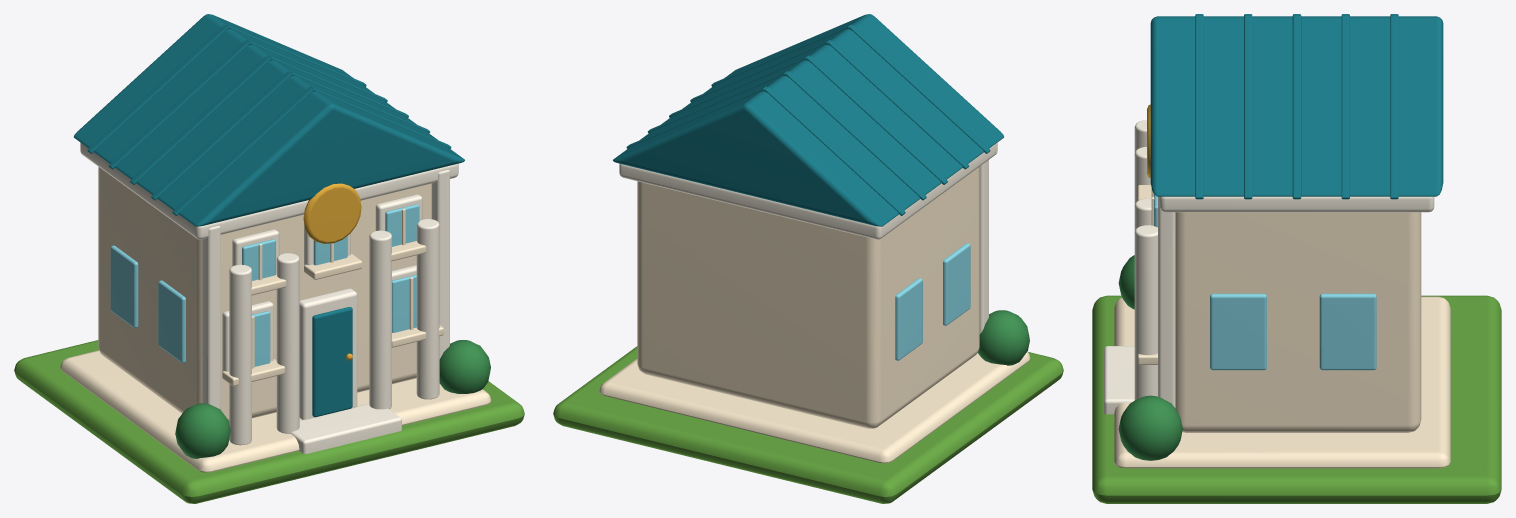
File: bank.fbx
3 renders of one model, left to right at view 1: azimuth 30°, elevation 25°; view 2: azimuth 150°, elevation 25°; view 3: azimuth 270°, elevation 25°, orthographic. The views are drawn at different scales.
Parts seen in each view (by area): view 1: Roof.004, Plaster facade.004, Raised garden plot.004, Paved foundation.004, Entrance.004, Classical column.001, Classical column.002, Classical column.003, Classical column, Cornice.004, Entrance step.004, Corner trim.008 (+22 smaller); view 2: Plaster facade.004, Roof.004, Raised garden plot.004, Paved foundation.004, Cornice.004, Clipped shrub.008, Side window.017, Side window.016, Corner trim.008, Roof seam.043, Roof seam.044, Roof seam.041 (+2 smaller); view 3: Roof.004, Plaster facade.004, Raised garden plot.004, Paved foundation.004, Cornice.004, Side window.019, Side window.018, Classical column.003, Corner trim.009, Clipped shrub.009, Entrance step.004, Roof seam.047 (+7 smaller).
Part boxes in pixels (box(x1,y1,x2,y2)): Roof.004: box(74, 14, 464, 226); Plaster facade.004: box(98, 167, 431, 422); Raised garden plot.004: box(14, 340, 524, 503); Paved foundation.004: box(60, 350, 491, 472); Entrance.004: box(312, 307, 352, 417); Classical column.001: box(276, 253, 299, 433); Classical column.002: box(369, 230, 391, 409); Classical column.003: box(416, 219, 439, 399); Classical column: box(229, 264, 251, 445); Cornice.004: box(80, 142, 458, 239); Entrance step.004: box(290, 404, 401, 454); Corner trim.008: box(202, 226, 220, 409); Plaster facade.004: box(637, 167, 979, 428); Roof.004: box(613, 14, 1003, 226); Raised garden plot.004: box(553, 346, 1063, 503); Paved foundation.004: box(599, 351, 1030, 463); Cornice.004: box(619, 142, 997, 239); Clipped shrub.008: box(977, 310, 1029, 365); Side window.017: box(895, 278, 922, 360); Side window.016: box(943, 243, 970, 325); Corner trim.008: box(979, 160, 988, 333); Roof seam.043: box(785, 71, 926, 200); Roof seam.044: box(764, 87, 905, 215); Roof seam.041: box(828, 40, 968, 169); Roof.004: box(1150, 16, 1443, 196); Plaster facade.004: box(1175, 212, 1421, 432); Raised garden plot.004: box(1092, 295, 1501, 503); Paved foundation.004: box(1114, 296, 1450, 468); Cornice.004: box(1159, 196, 1434, 212); Side window.019: box(1319, 293, 1376, 370); Side window.018: box(1210, 293, 1266, 370); Classical column.003: box(1134, 225, 1157, 400); Corner trim.009: box(1158, 196, 1175, 408); Clipped shrub.009: box(1118, 395, 1182, 460); Entrance step.004: box(1104, 346, 1134, 414); Roof seam.047: box(1292, 15, 1301, 199).
Bounding box in the file's own units: 3.1 × 3.01 × 2.8.
